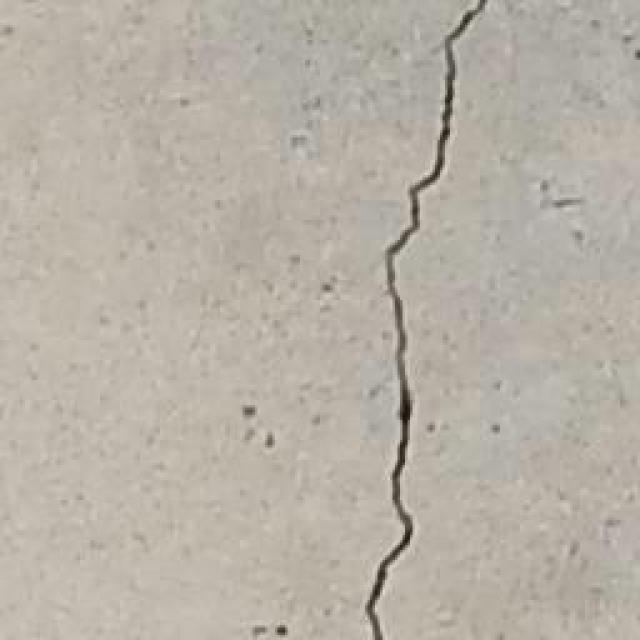concrete-crack: (368, 0, 490, 640)
